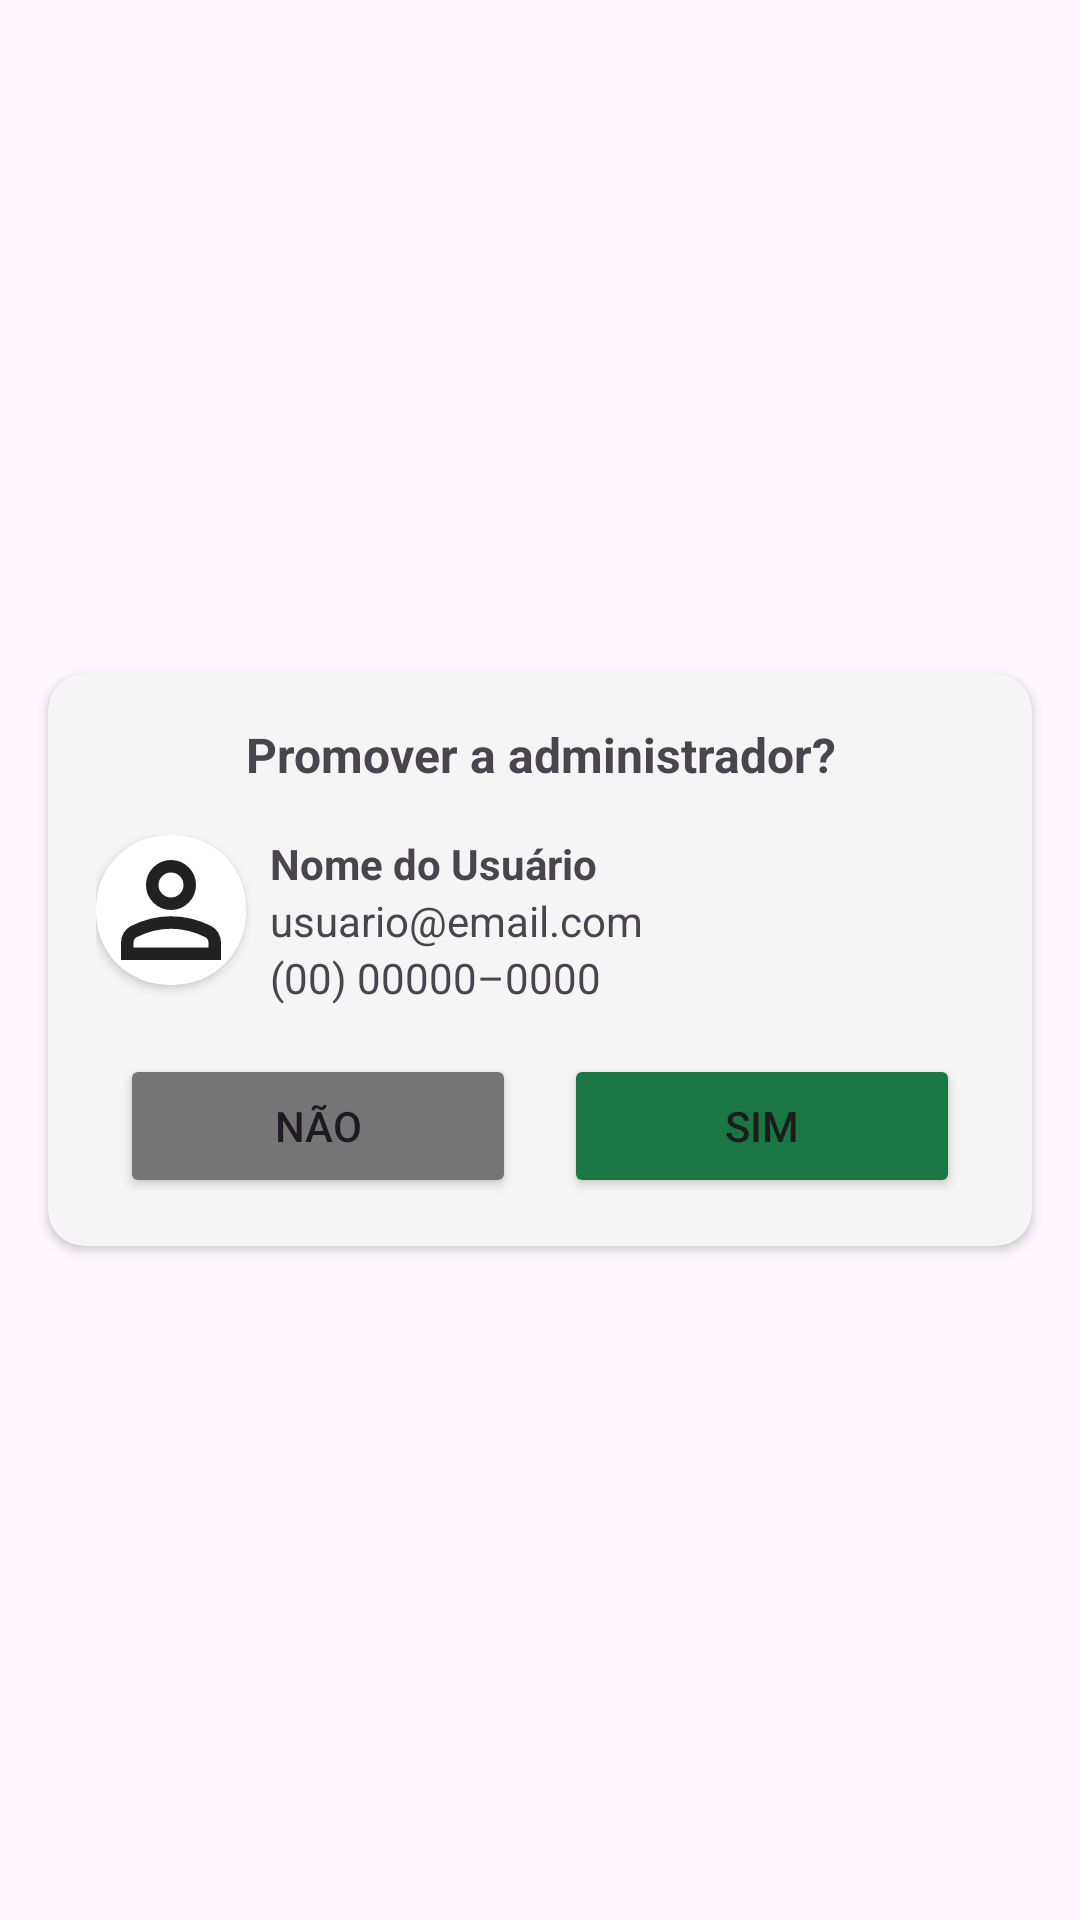

Screen size 1080px×1920px. Icon name, then its center in pixels as point (x, y):
Imagem do Usuário: point (171, 910)
